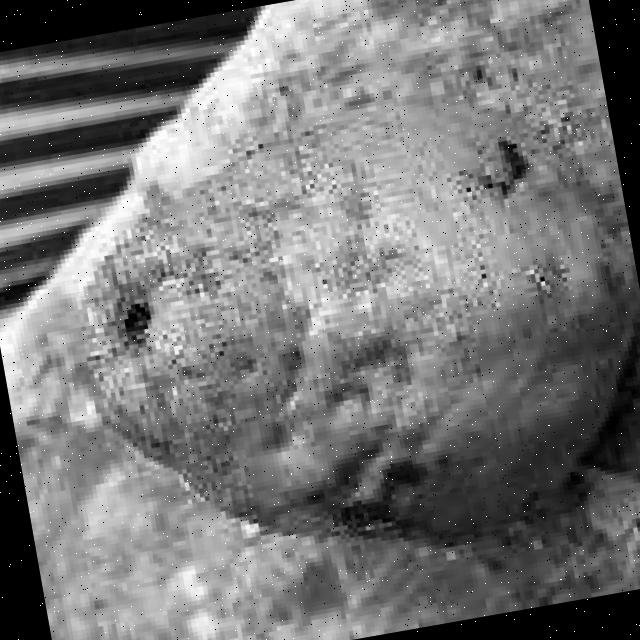Good_Guava 5-7 days: (73, 94, 640, 533)
